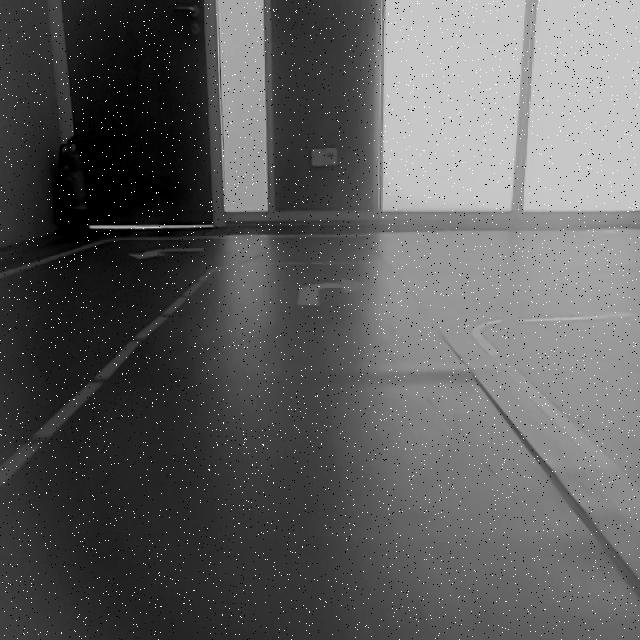left_lane: (0, 265, 225, 491)
right_lane: (478, 328, 640, 523)
